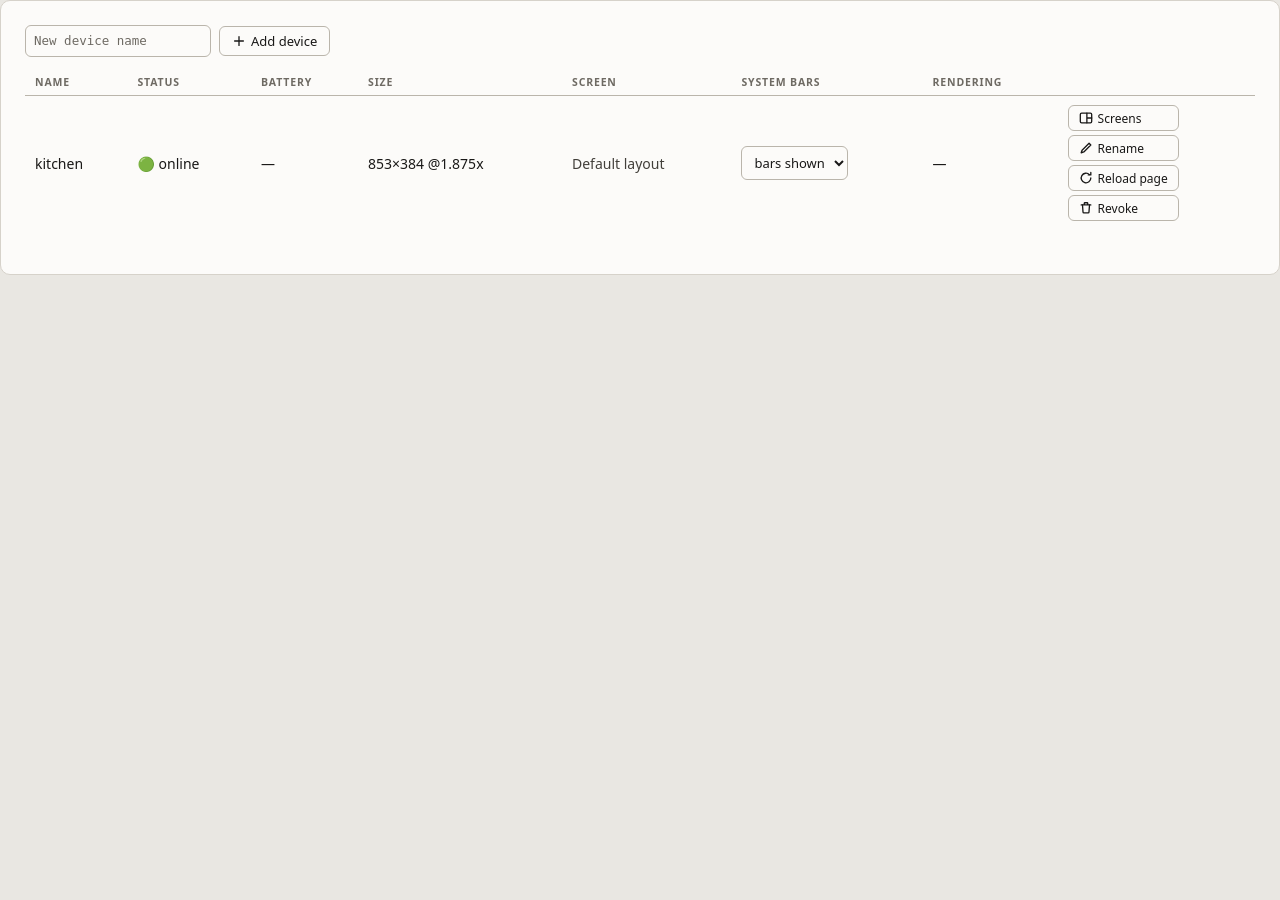
Devices page › a device with no tabs points the operator at the Screens tab, not a dead end
Expected: the text "kitchen" is shown, [25,96,128,230]
Click the button with aria-label "Screens for kitchen": [1123, 118] box [1068,105,1179,131]
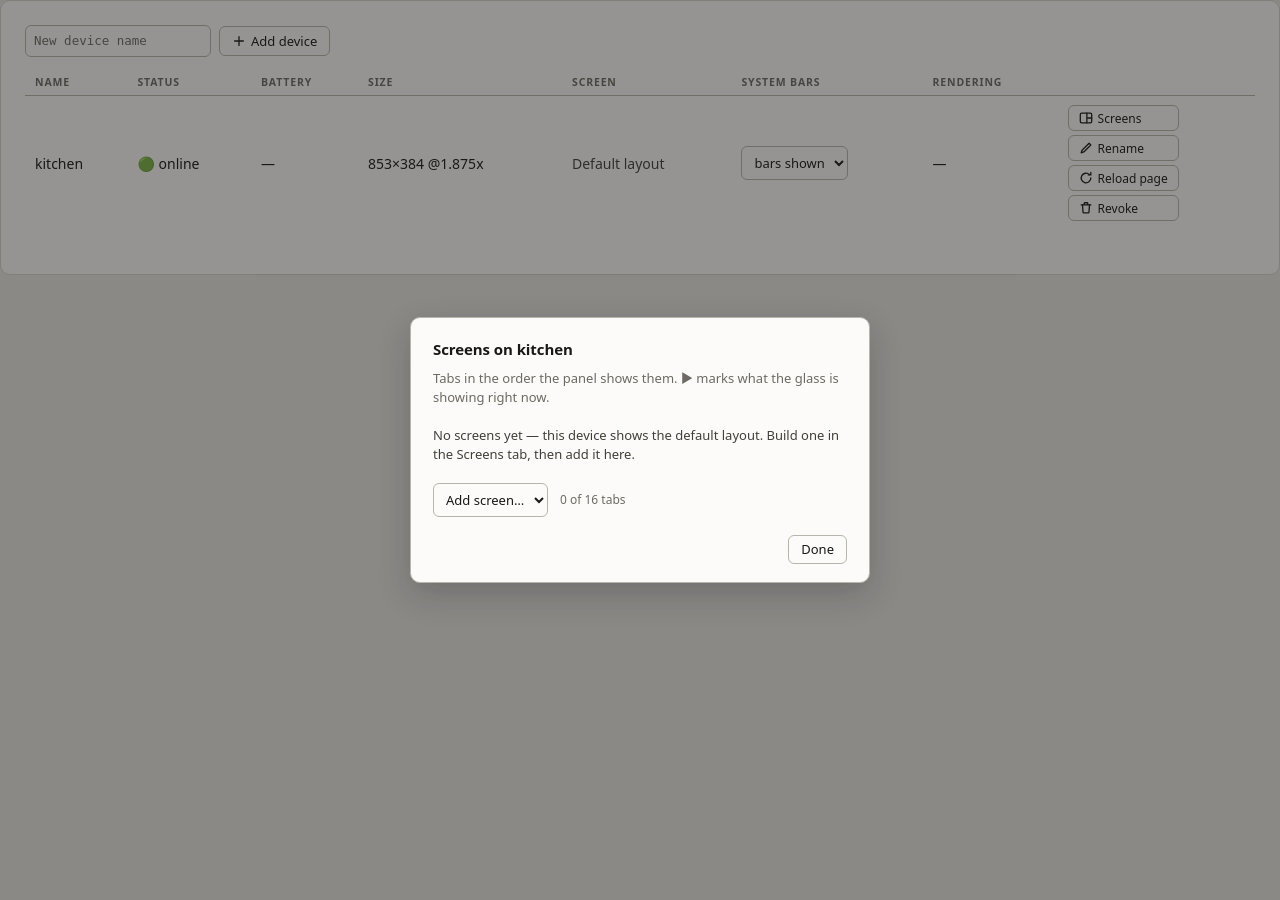
Expected: the text "build one in the Screens tab" is shown, [433,426,839,463]
